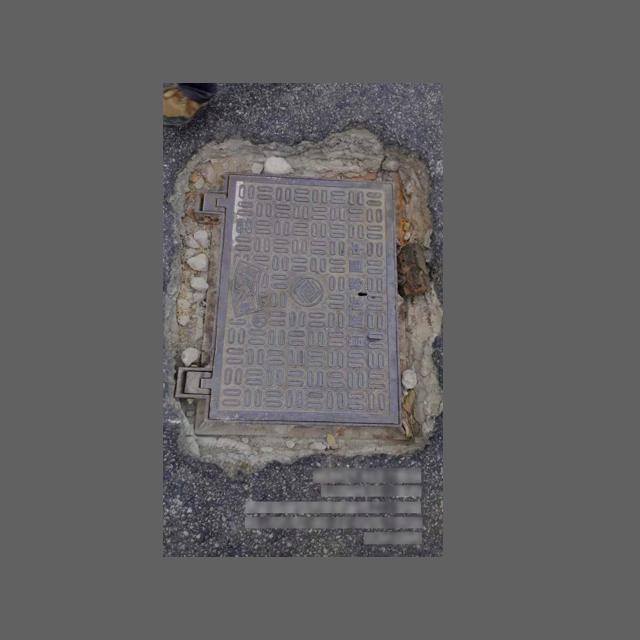circle: (173, 152, 429, 456)
